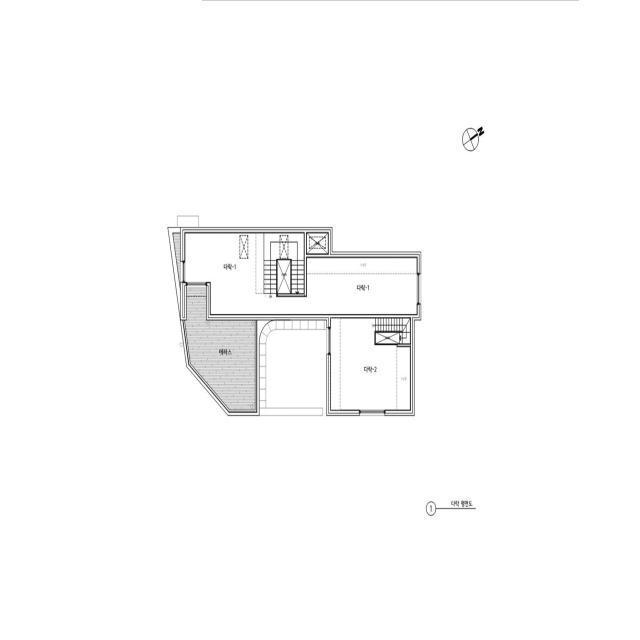space_balconi: (184, 286, 255, 410), (173, 233, 180, 289)
space_other: (185, 233, 417, 314), (331, 318, 410, 410), (277, 260, 291, 293), (307, 233, 328, 253), (376, 332, 399, 344)
space_staircase: (264, 233, 304, 293), (376, 318, 410, 344)
